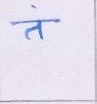anusvara: (31, 5, 36, 9)
